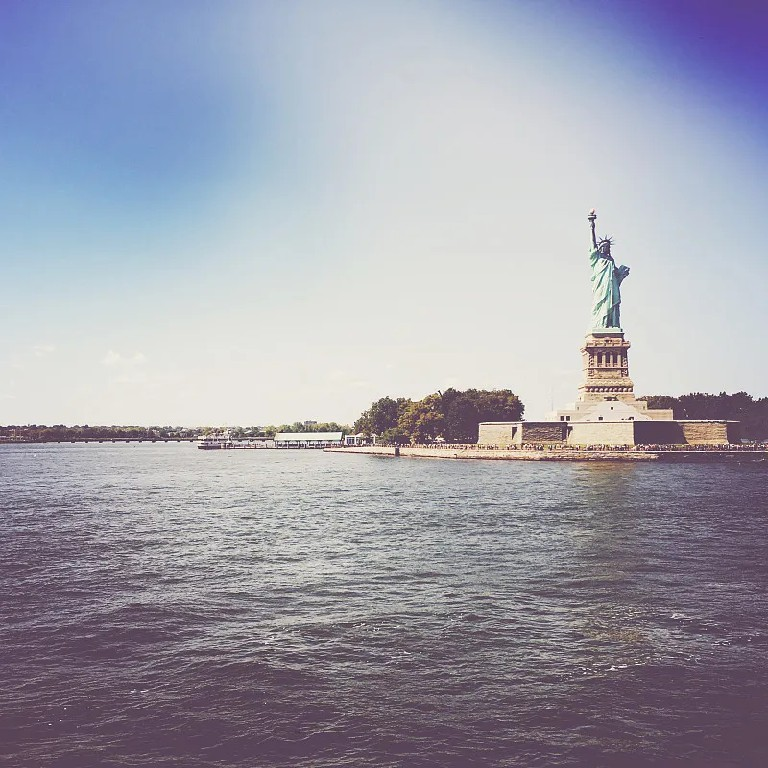SL: (578, 210, 635, 402)
